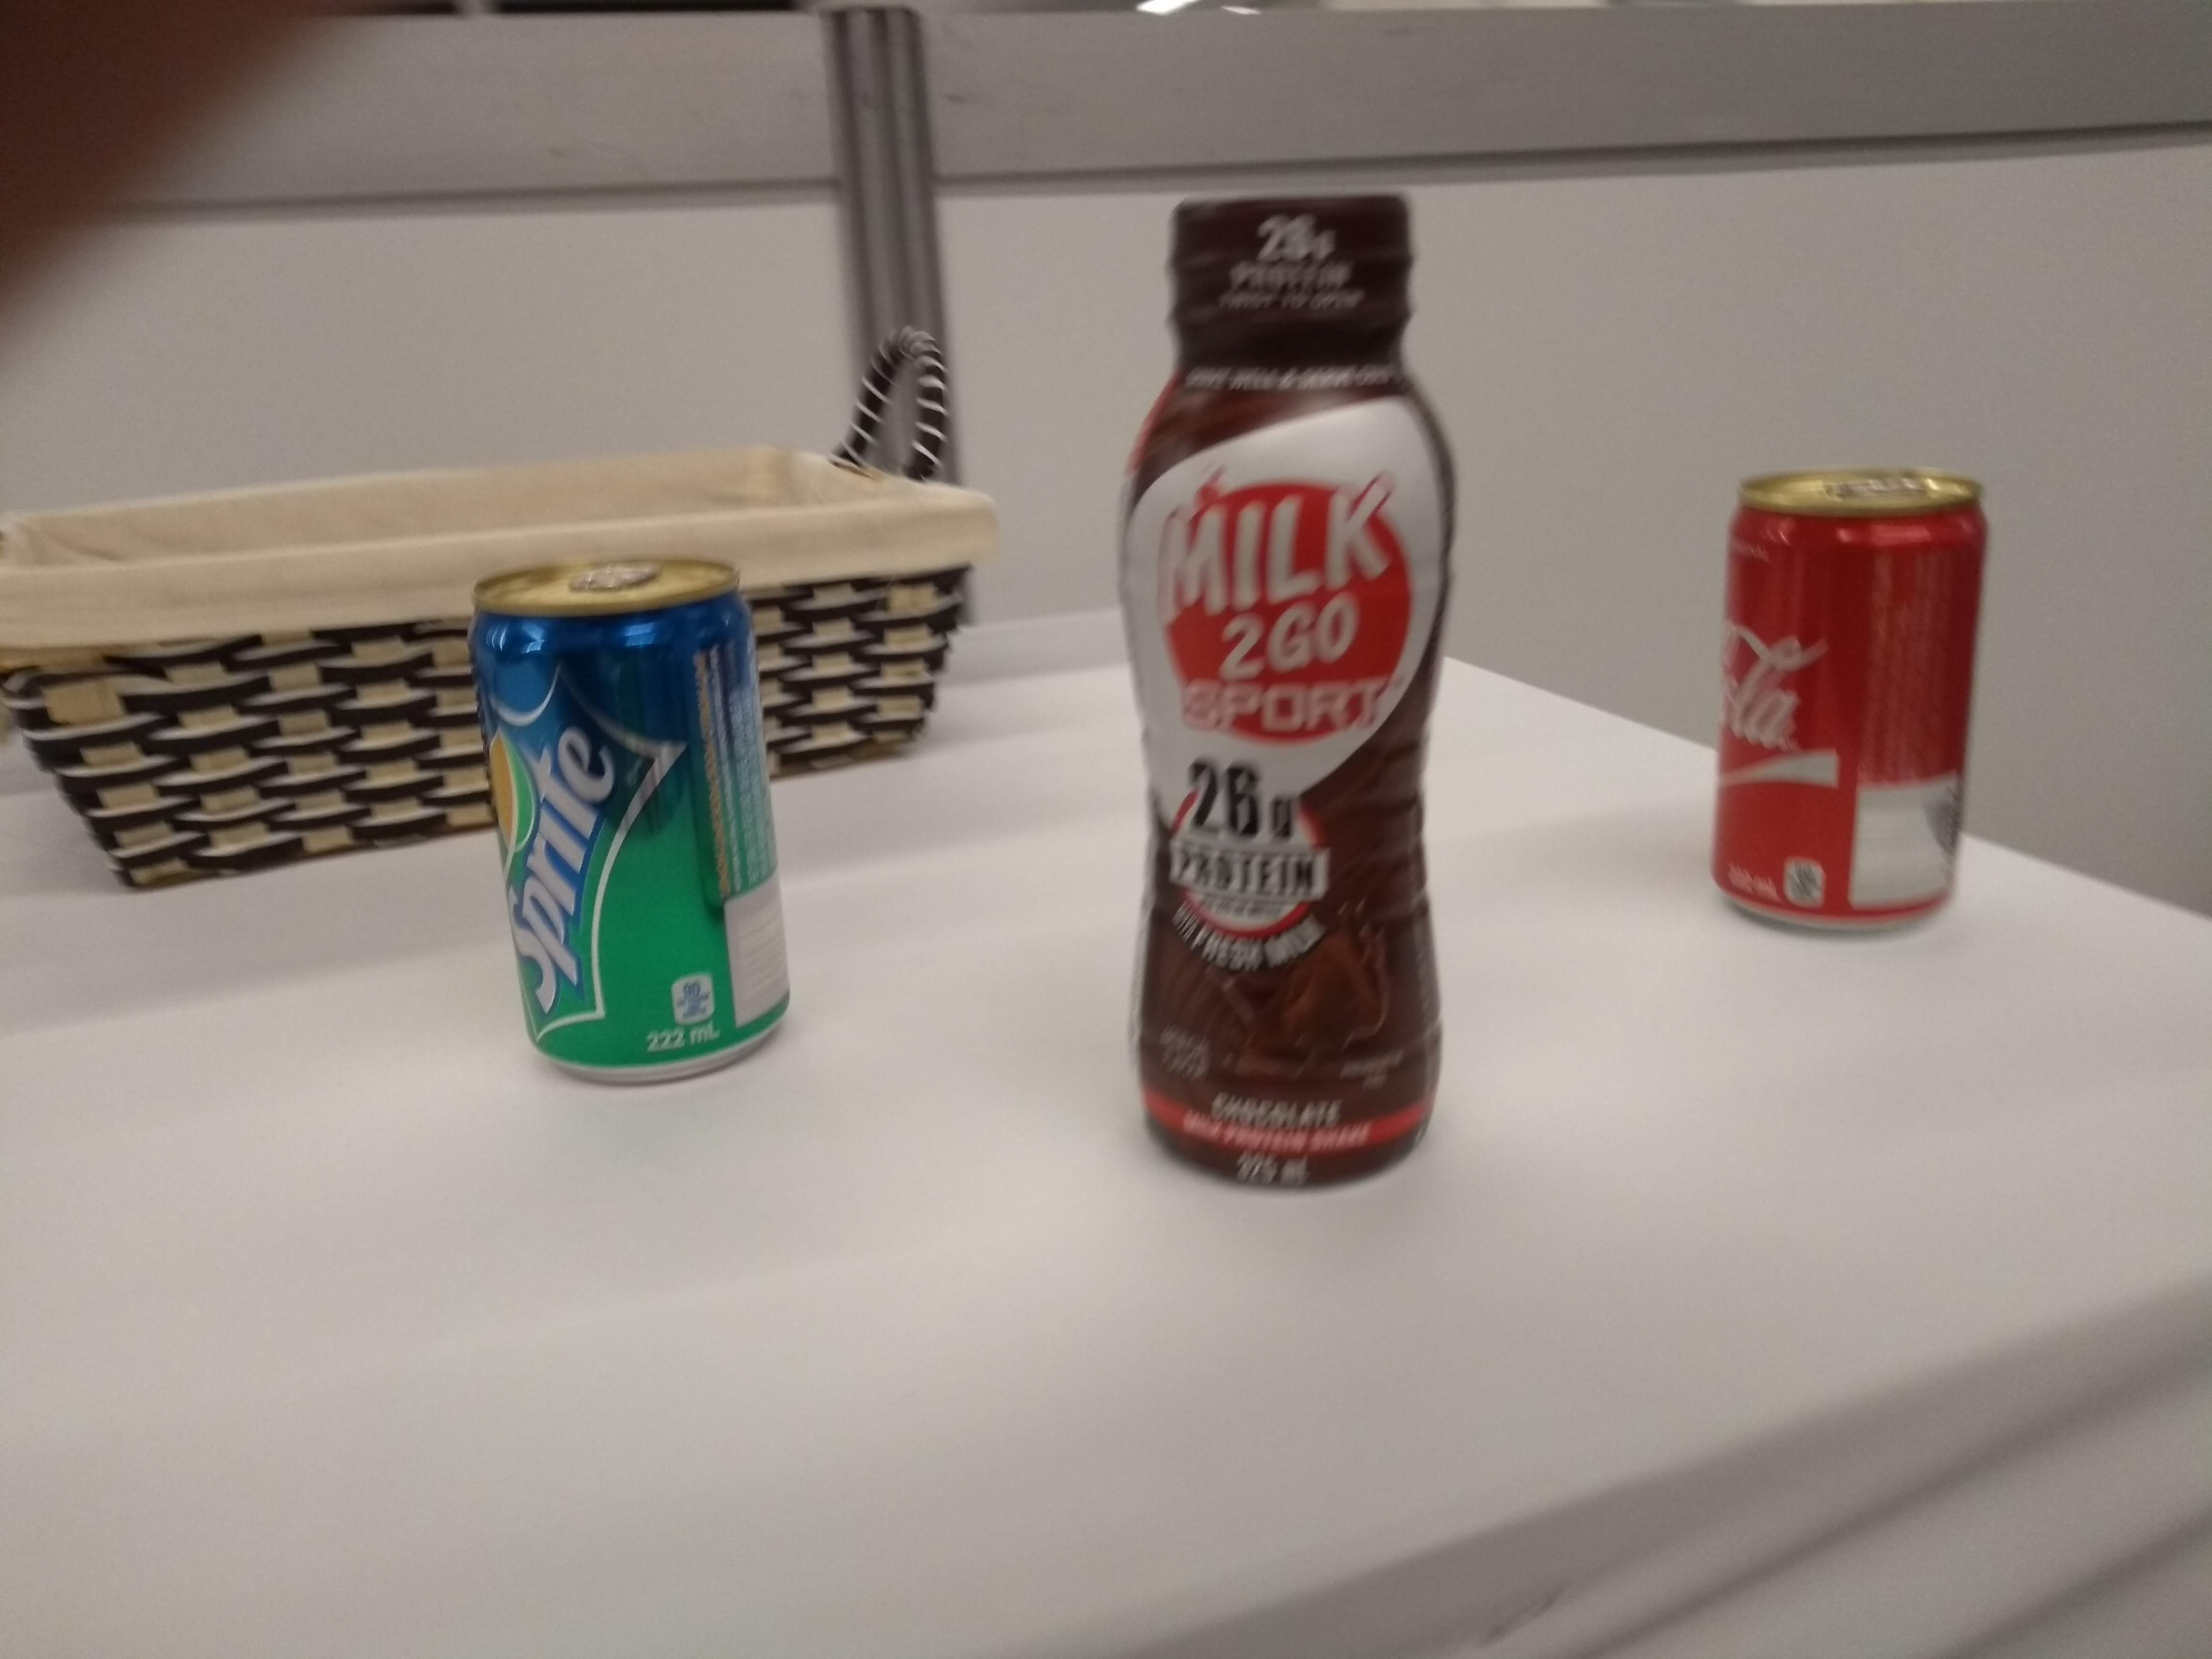chocolate_drink: (1104, 181, 1467, 1201)
coke: (1700, 455, 1998, 955)
sprite: (462, 549, 803, 1098)
